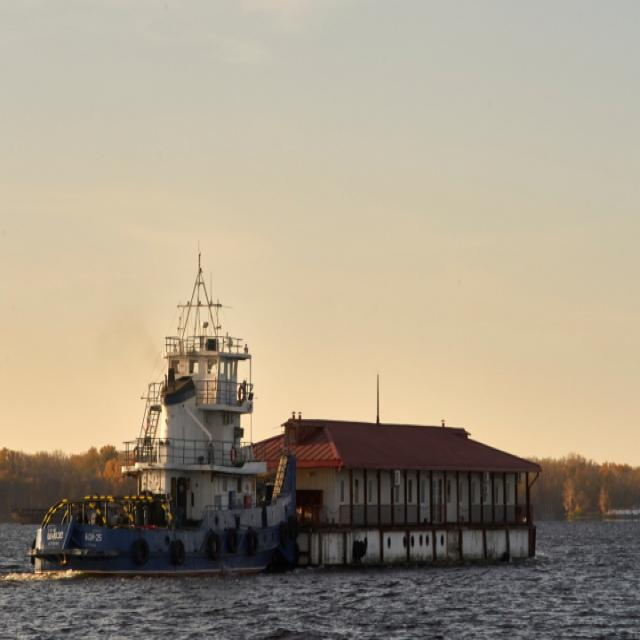tugboat: (24, 329, 311, 586)
